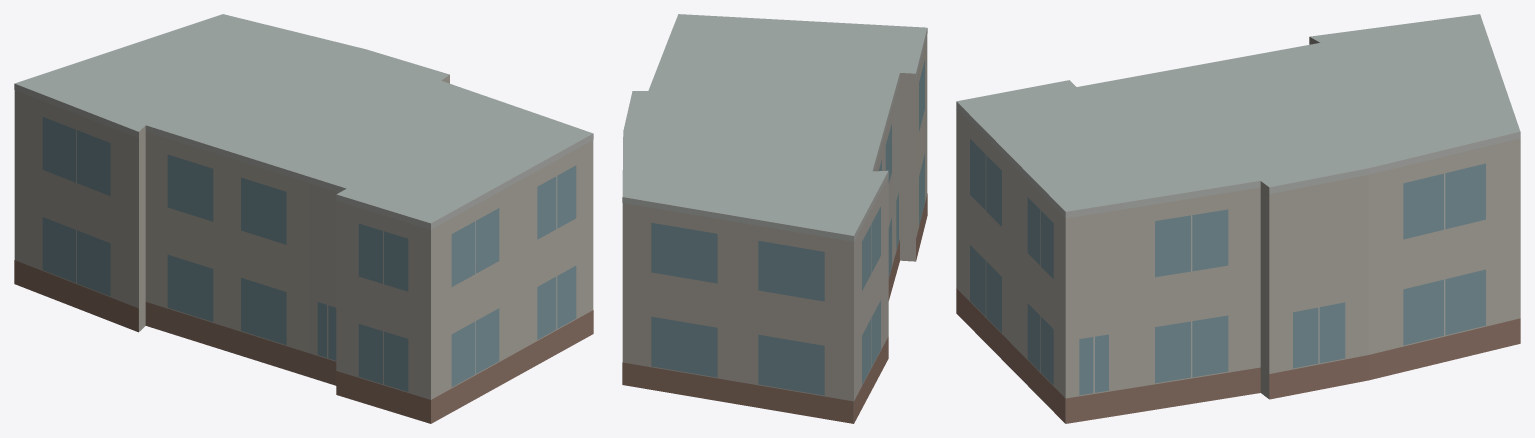
Rendered from survey-upis-32513076.glb.
3 views of the same model, side by side, from view 1: azimuth 30°, elevation 25°; view 2: azimuth 150°, elevation 25°; view 3: azimuth 270°, elevation 25° (orthographic). The views are drawn at different scales.
Visible parts, largest first — view 1: survey-upis-32513076.tmp; view 2: survey-upis-32513076.tmp; view 3: survey-upis-32513076.tmp.
Part boxes in pixels (bbox=[...]): survey-upis-32513076.tmp: bbox=[14, 14, 593, 423]; survey-upis-32513076.tmp: bbox=[622, 14, 927, 423]; survey-upis-32513076.tmp: bbox=[956, 14, 1520, 423].
Bounding box in the file's own units: 15.61 × 7.8 × 18.81.
